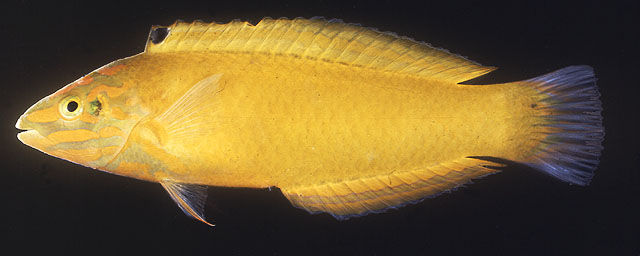fish: (15, 13, 606, 226)
